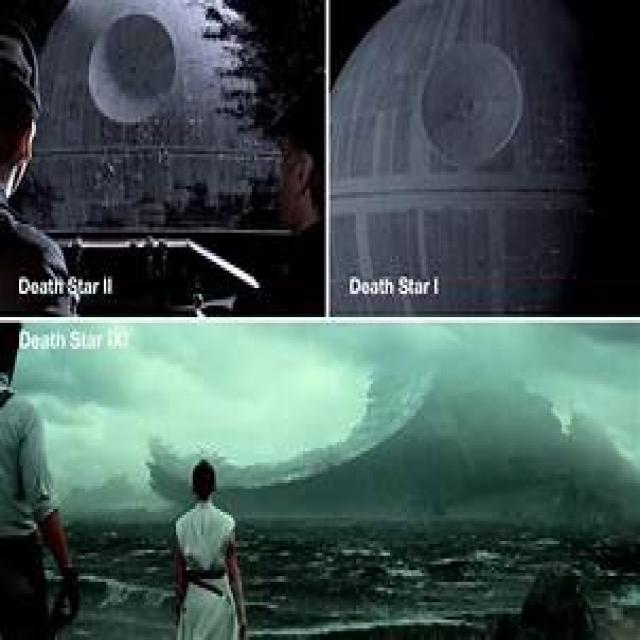deathStar: (329, 3, 637, 310), (23, 0, 294, 231)
